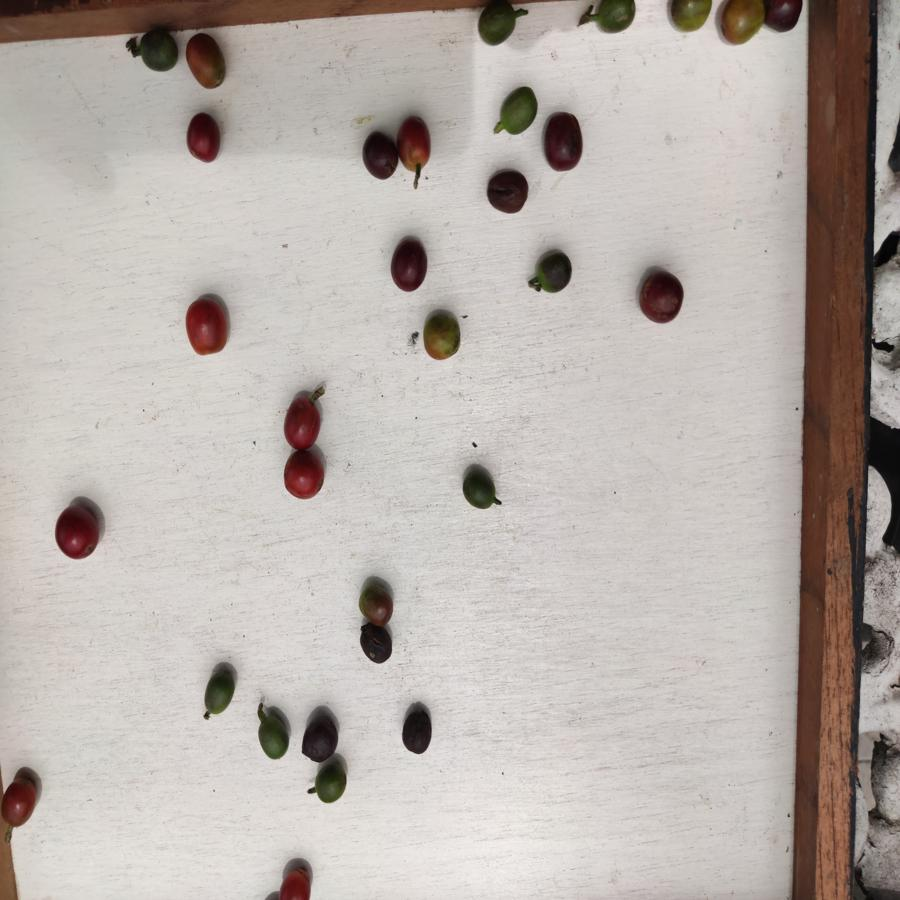Inmaduro: (499, 82, 539, 142), (132, 28, 182, 76), (475, 1, 520, 53), (254, 709, 293, 763), (202, 671, 242, 718), (461, 468, 501, 513), (535, 251, 573, 296), (596, 1, 635, 43), (312, 764, 351, 803)
Maduro: (182, 297, 230, 361), (281, 445, 327, 501), (281, 394, 325, 448), (1, 777, 38, 831), (275, 868, 319, 900)
Pinton: (183, 28, 240, 89), (397, 115, 437, 169), (420, 311, 463, 361), (720, 1, 763, 47), (660, 1, 714, 35), (357, 584, 395, 624)
Sobremaduro: (539, 108, 588, 173), (635, 266, 688, 325), (49, 505, 101, 565), (182, 110, 229, 165), (481, 168, 531, 217), (359, 127, 399, 183), (390, 242, 429, 295), (299, 713, 340, 761), (397, 707, 433, 758), (356, 623, 396, 666), (766, 1, 808, 35)
